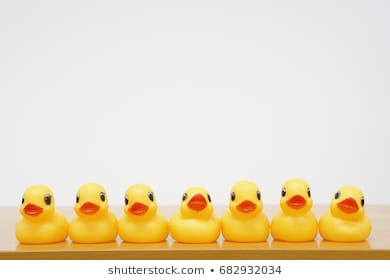duck: (62, 179, 125, 256), (5, 177, 70, 250), (113, 174, 171, 254), (162, 182, 225, 251)
